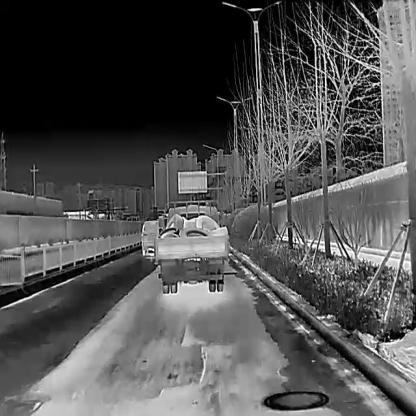car: (141, 219, 159, 260)
truck: (155, 199, 228, 293)
